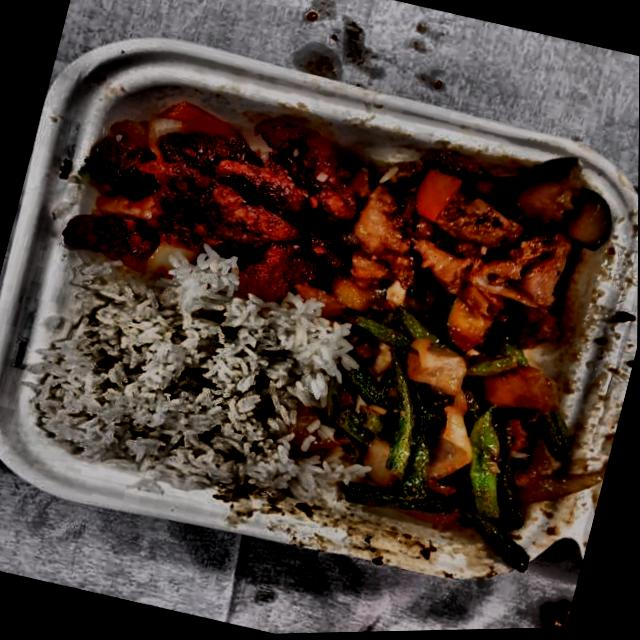Food: (19, 247, 332, 516), (59, 59, 384, 315), (295, 302, 593, 581), (326, 114, 634, 376)
